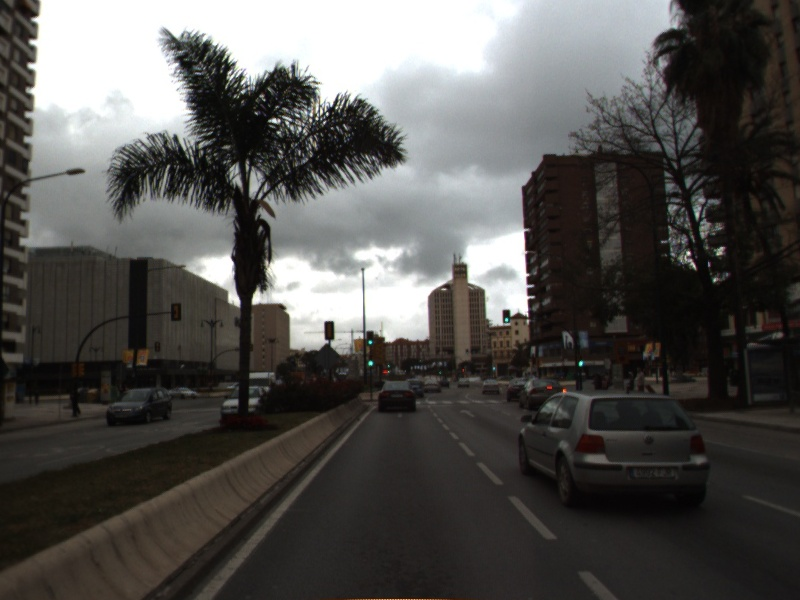STRAIGHT: (457, 407, 478, 419)
